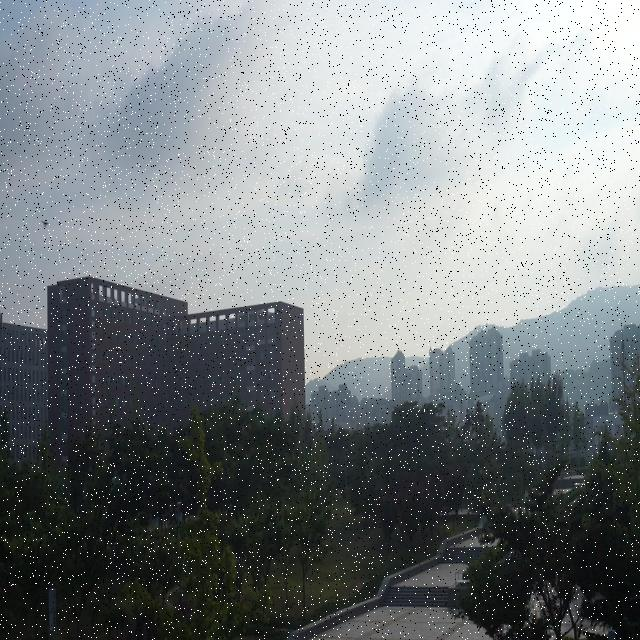UAV: (40, 220, 50, 227)
